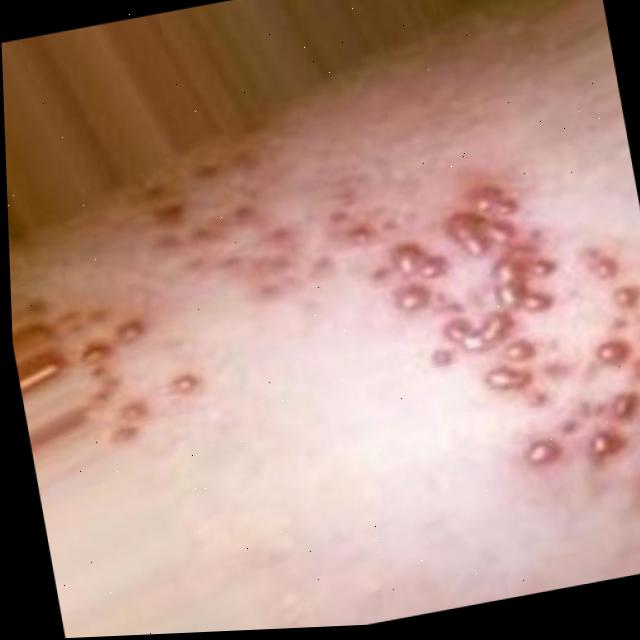Shingles: (372, 160, 640, 549), (128, 135, 384, 334), (56, 287, 211, 459)
